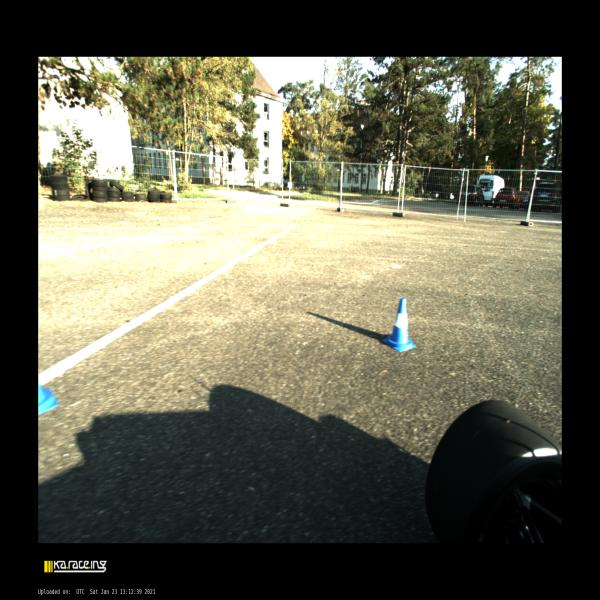blue_cone: (382, 298, 416, 352)
